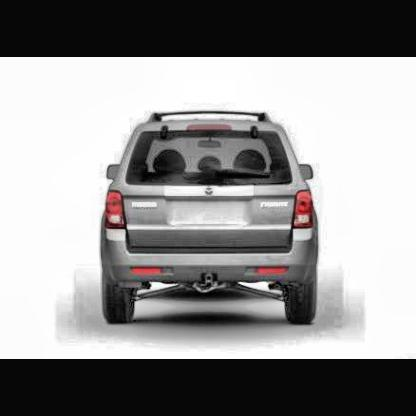Mazda Tribute SUV 2011: (102, 113, 321, 326)
